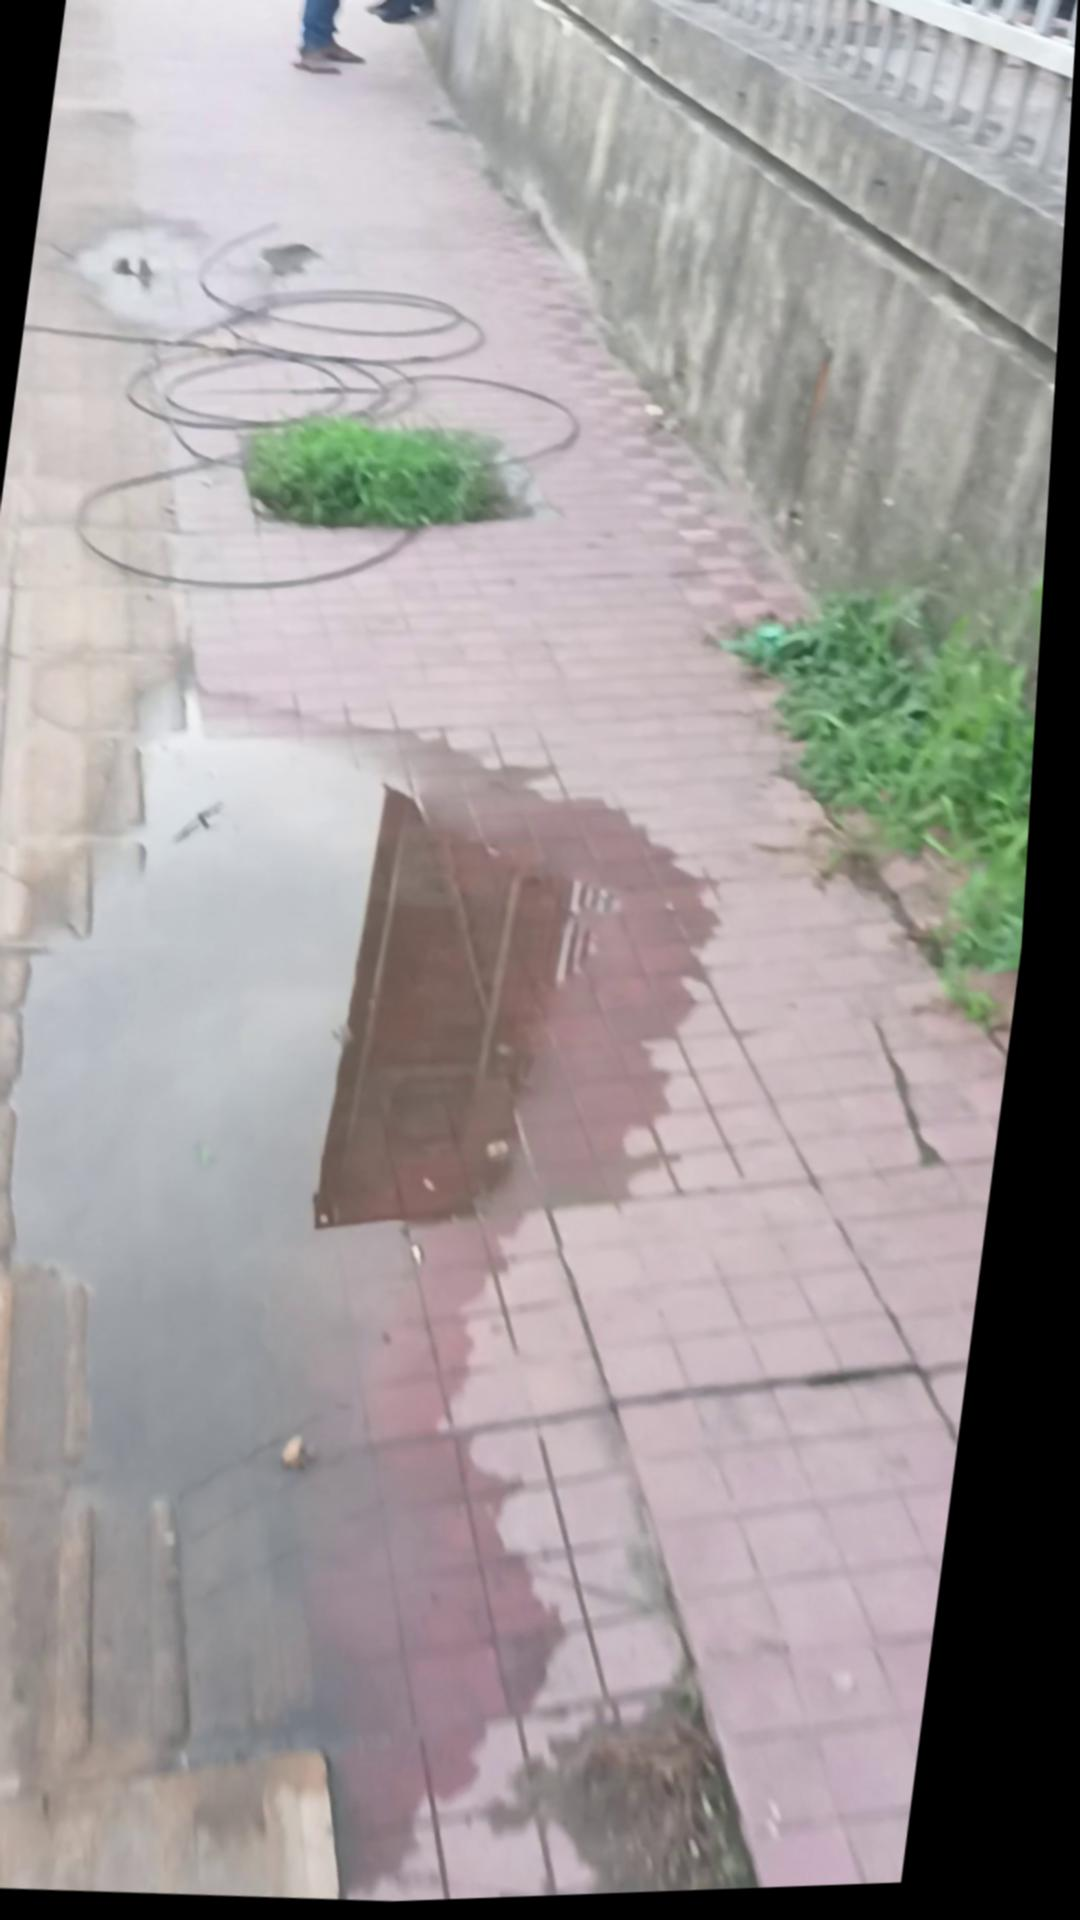Potted-plant: (0, 0, 1080, 1920)
Railroad-crossing: (1, 697, 647, 1306)
